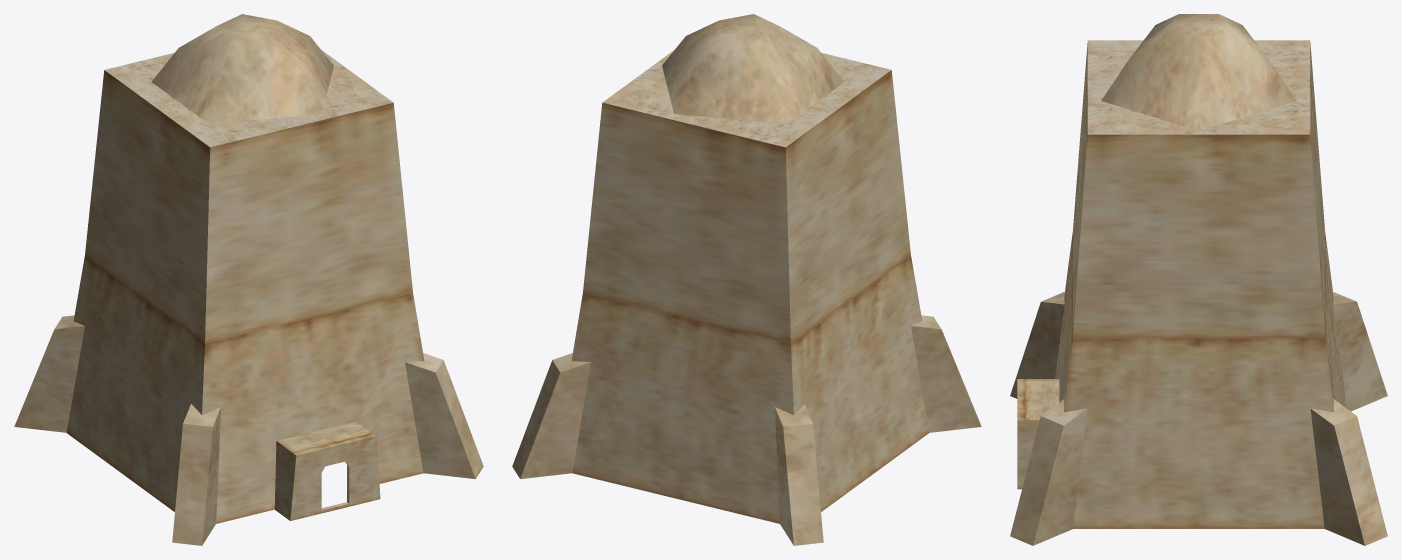
File: thm_tato_imprv_building_s02_r0_mesh_l3.fbx
3 renders of one model, left to right at view 1: azimuth 30°, elevation 25°; view 2: azimuth 150°, elevation 25°; view 3: azimuth 270°, elevation 25°, orthographic. The views are drawn at different scales.
Parts seen in each view (by area): view 1: mesh_node; view 2: mesh_node; view 3: mesh_node.
Part boxes in pixels (x1,y1,x2,y2): mesh_node: [14, 14, 483, 545]; mesh_node: [512, 14, 981, 545]; mesh_node: [1010, 14, 1387, 545].
Size of the model in its own units: 22.7 by 29.21 by 22.7.
Materials: 1 (1 with a texture image).
